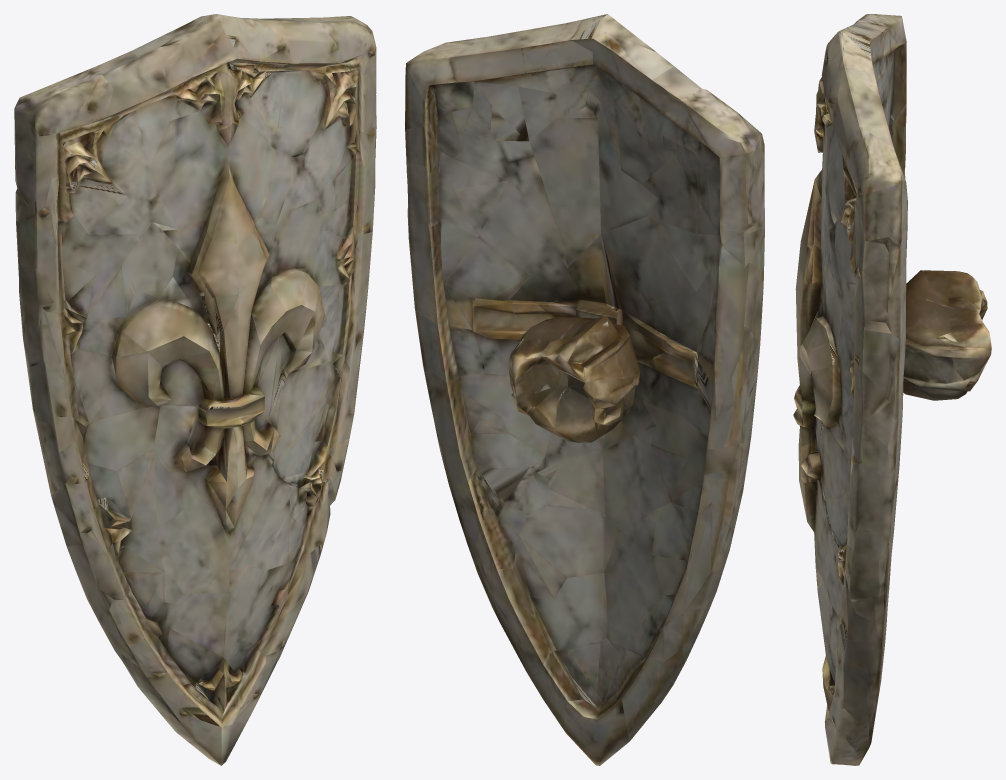
File: shield-white.glb
3 renders of one model, left to right at view 1: azimuth 30°, elevation 25°; view 2: azimuth 150°, elevation 25°; view 3: azimuth 270°, elevation 25°, orthographic. The views are drawn at different scales.
Parts seen in each view (by area): view 1: Shield; view 2: Shield; view 3: Shield.
Boxes of the visible parts, bbox=[...] form: Shield: bbox=[14, 14, 376, 765]; Shield: bbox=[405, 14, 764, 765]; Shield: bbox=[793, 14, 991, 765].
Size of the model in its own units: 0.2954 by 0.5992 by 0.1468.
1 material, 1 textured.
